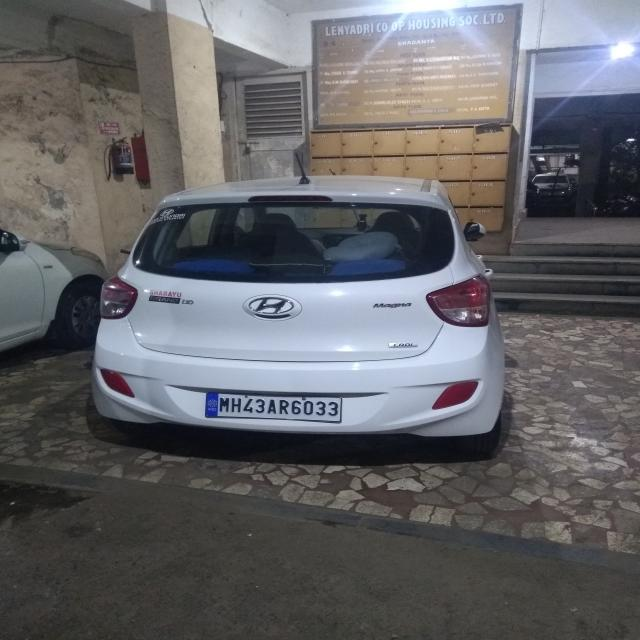Number-Plate: (208, 392, 340, 420)
